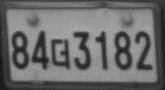1: (94, 30, 108, 70)
2: (134, 30, 152, 70)
3: (72, 31, 90, 70)
4: (30, 29, 50, 70)
8: (113, 30, 133, 70), (11, 30, 29, 69)
더: (50, 38, 70, 69)
